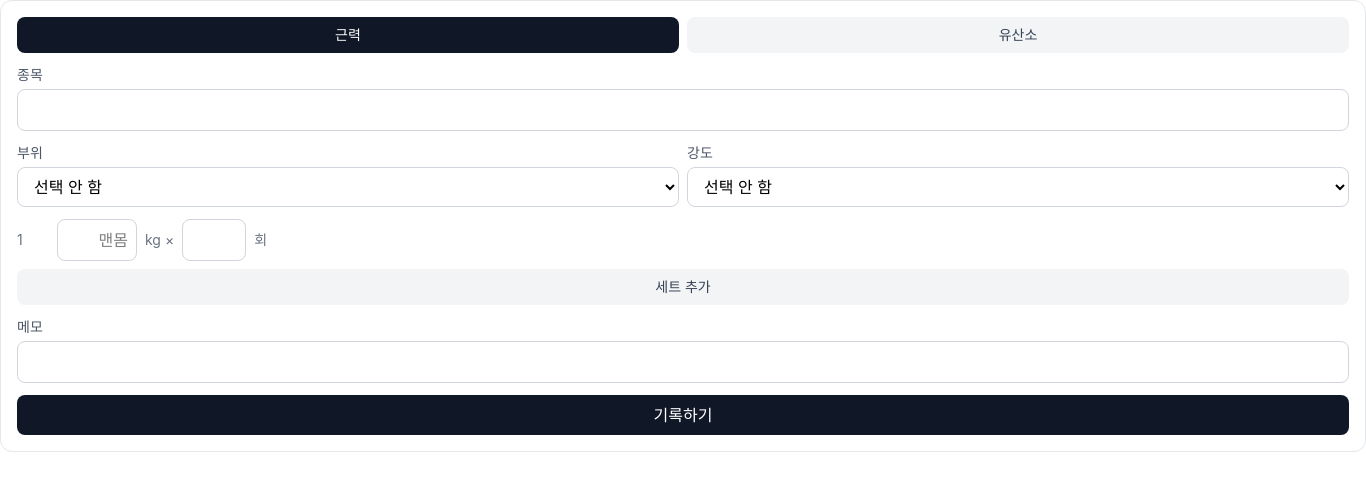
Test: 운동 폼 › 유산소 시간이 0이면 저장하지 않고 알린다
Click the button "유산소". click: coordinates (1018, 35)
box: [687,17,1349,53]
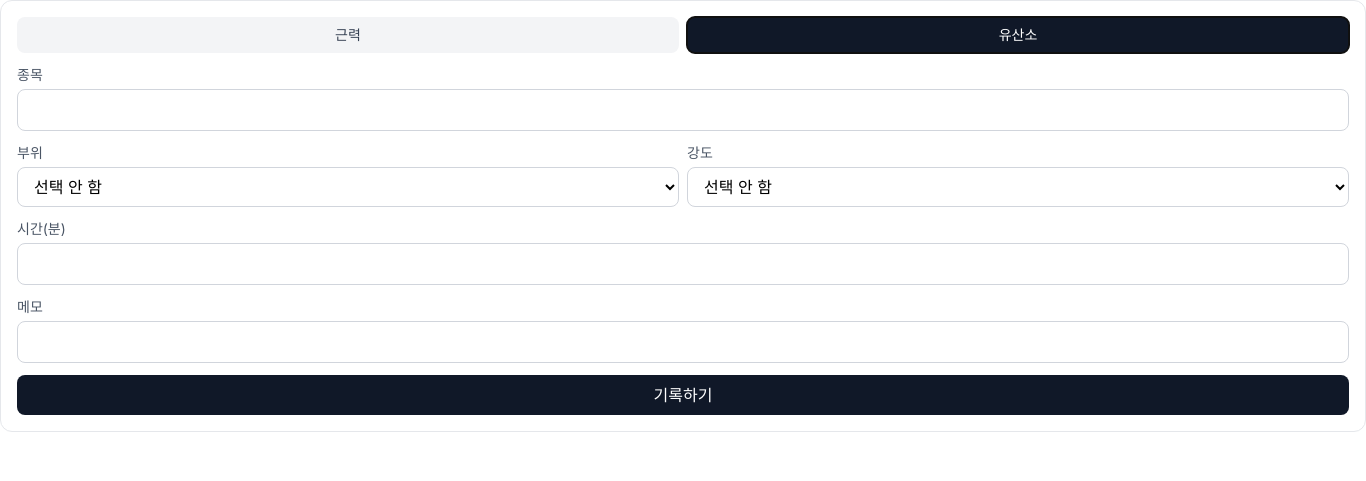
Type "러닝" into the field labelled "종목". click: coordinates (683, 110)
box: [17,89,1349,131]
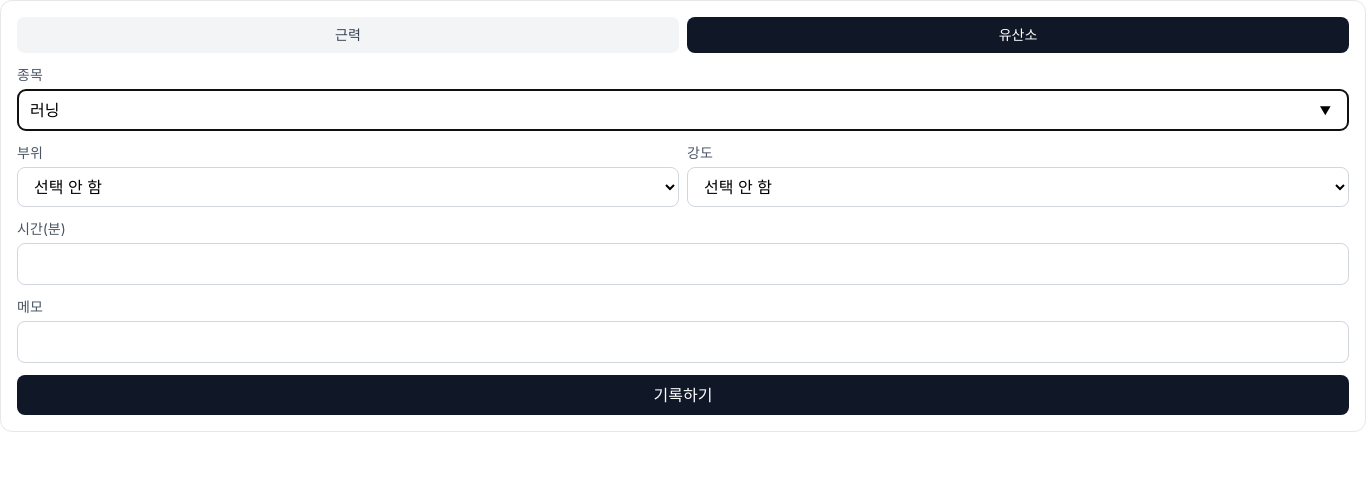
Type "0" into the field labelled "시간(분)". click: coordinates (683, 264)
box: [17,243,1349,285]
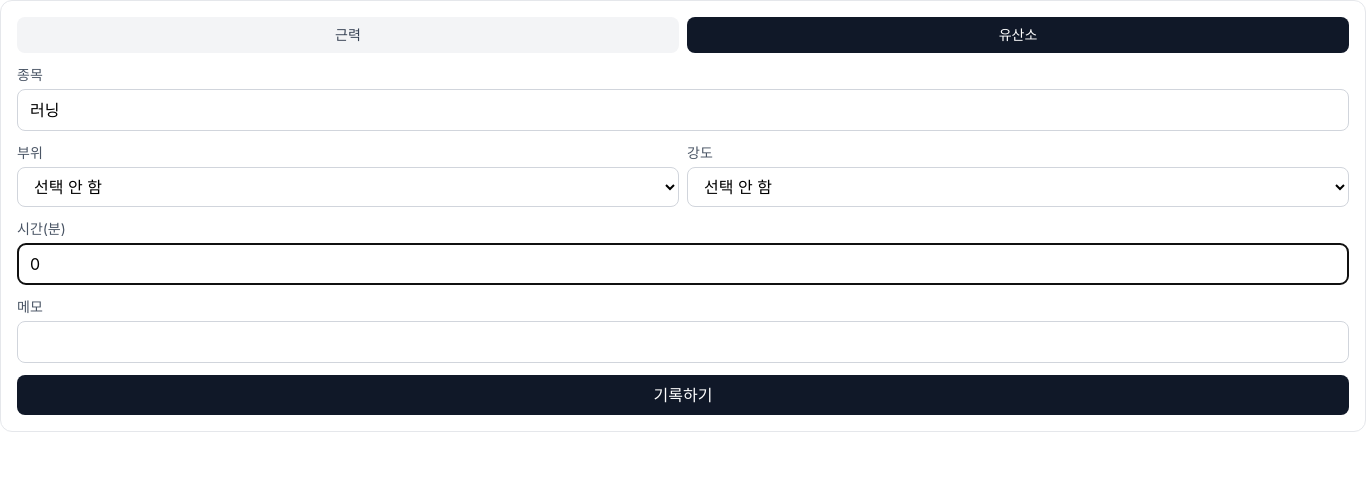
Click the button "기록하기". click: coordinates (683, 395)
box: [17,375,1349,415]
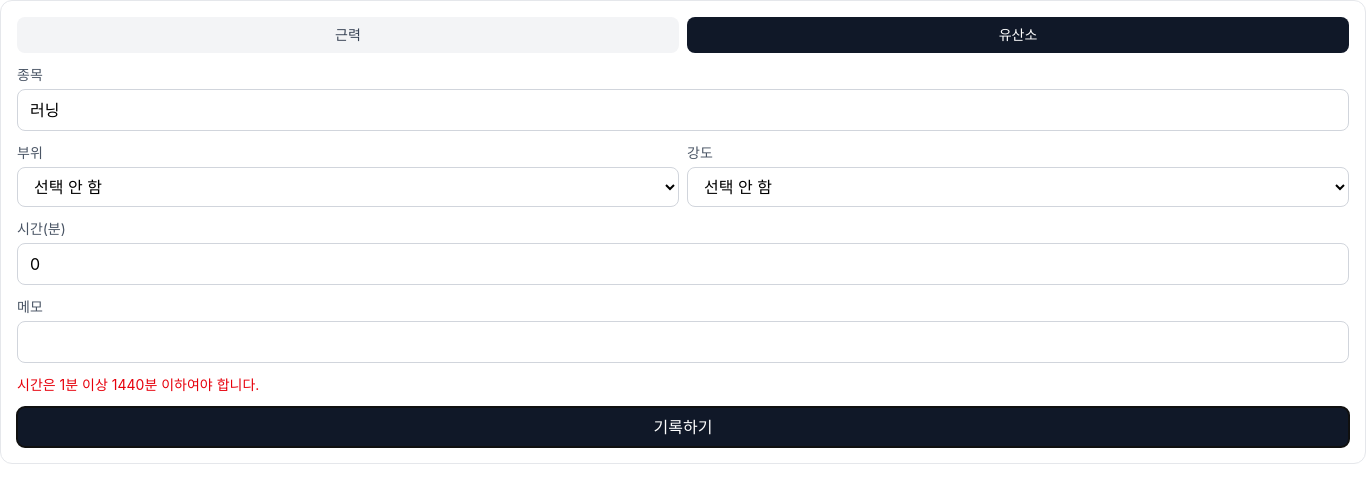
Expected: the message shows "시간", [17,376,259,393]
